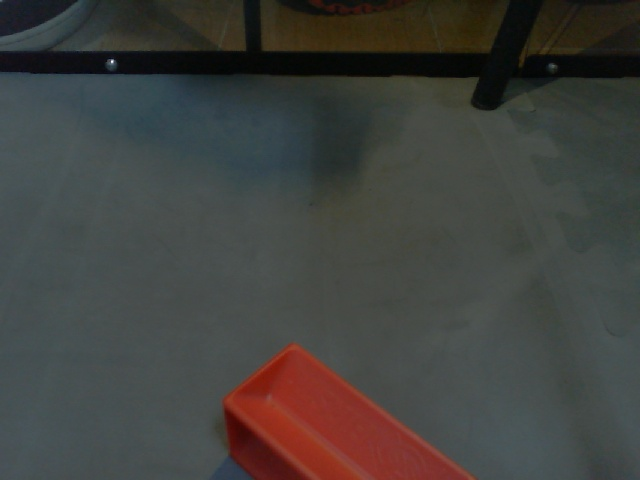RedSample: (221, 339, 481, 480)
